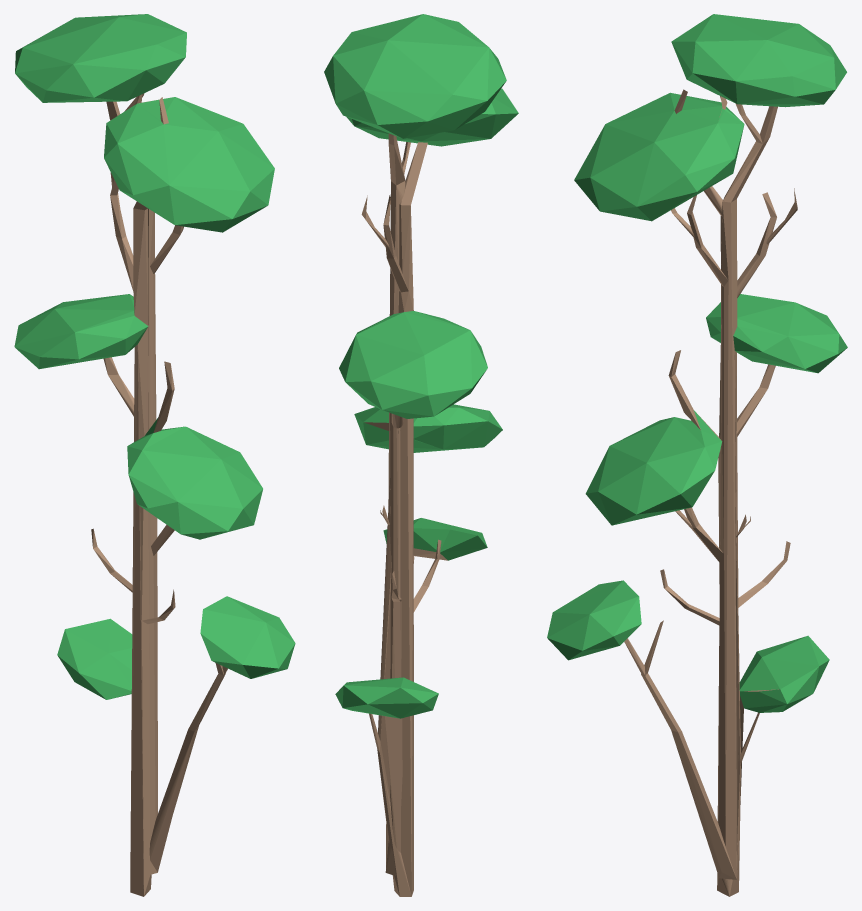
File: tree39.fbx
3 views of the same model, side by side, from view 1: azimuth 30°, elevation 25°; view 2: azimuth 150°, elevation 25°; view 3: azimuth 270°, elevation 25° (orthographic). The views are drawn at different scales.
Parts seen in each view (by area): view 1: treetype39; view 2: treetype39; view 3: treetype39.
Boxes of the visible parts, x1=… form: treetype39: x1=14, y1=14, x2=295, y2=896; treetype39: x1=324, y1=14, x2=518, y2=896; treetype39: x1=547, y1=14, x2=847, y2=896.
Size of the model in its own units: 53.14 by 229 by 73.28.
